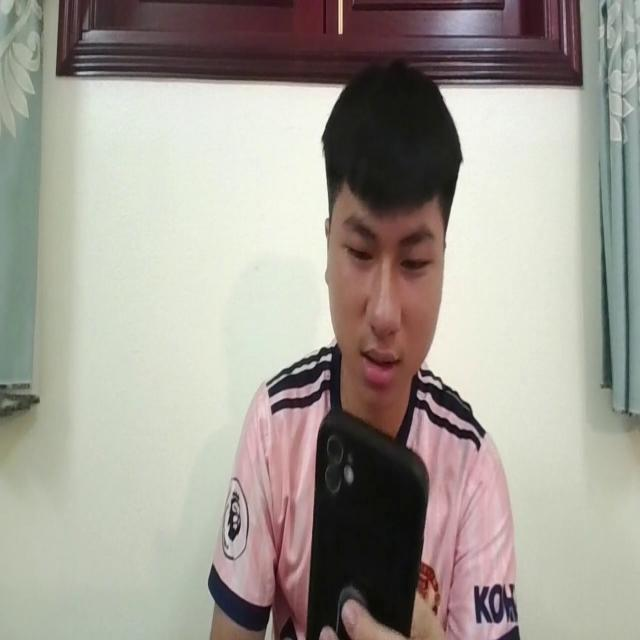phone: (305, 402, 429, 640)
student: (206, 42, 514, 640)
